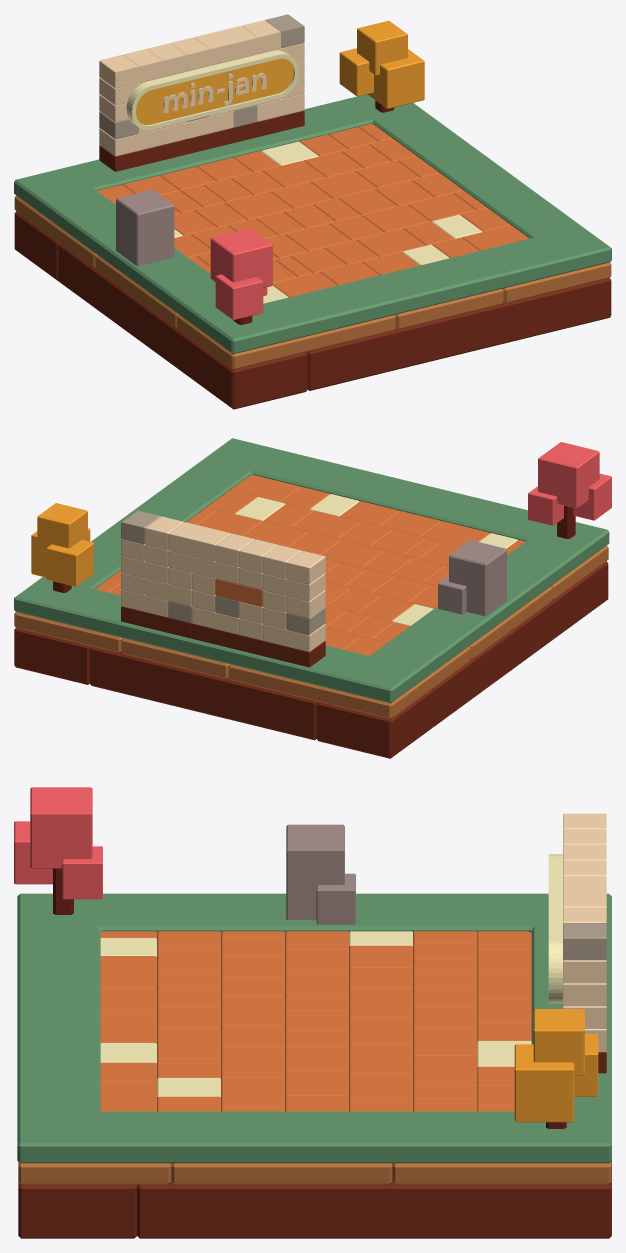
Rendered from stage.glb.
3 views of the same model, one above another, from view 1: azimuth 30°, elevation 25°; view 2: azimuth 150°, elevation 25°; view 3: azimuth 270°, elevation 25° (orthographic). The views are drawn at different scales.
Visible parts, largest first — view 1: 立方体.014, 立方体.001, 立方体.005, 立方体.199, 立方体.157, 立方体.007, 立方体.152, 立方体.155, 立方体.153, 立方体.151, 立方体.004, 立方体 (+63 smaller); view 2: 立方体.014, 立方体.003, 立方体.005, 立方体.004, 立方体.013, 立方体.157, 立方体.152, 立方体.002, 立方体.153, 立方体.154, 立方体.011, 立方体.012 (+56 smaller); view 3: 立方体.014, 立方体.002, 立方体.001, 立方体.010, 立方体.152, 立方体.011, 立方体.157, 立方体.155, 立方体, 立方体.153, 立方体.199, 立方体.079 (+71 smaller).
Boxes of the visible parts, x1,y1,x2,y2 form: 立方体.014: [14, 94, 611, 354]; 立方体.001: [306, 278, 611, 390]; 立方体.005: [58, 243, 307, 409]; 立方体.199: [126, 50, 298, 129]; 立方体.157: [116, 189, 174, 266]; 立方体.007: [177, 315, 395, 369]; 立方体.152: [210, 228, 272, 287]; 立方体.155: [368, 49, 424, 108]; 立方体.153: [357, 20, 407, 75]; 立方体.151: [215, 274, 263, 320]; 立方体.004: [14, 211, 59, 281]; 立方体: [502, 262, 611, 303]; 立方体.014: [14, 438, 609, 703]; 立方体.003: [90, 646, 317, 740]; 立方体.005: [432, 561, 608, 726]; 立方体.004: [316, 689, 433, 758]; 立方体.013: [228, 646, 470, 719]; 立方体.157: [449, 540, 506, 616]; 立方体.152: [538, 442, 599, 508]; 立方体.002: [14, 628, 91, 684]; 立方体.153: [37, 503, 87, 552]; 立方体.154: [46, 539, 93, 586]; 立方体.011: [14, 612, 122, 652]; 立方体.012: [121, 638, 229, 679]; 立方体.014: [17, 893, 611, 1163]; 立方体.002: [137, 1161, 611, 1238]; 立方体.001: [18, 1183, 136, 1238]; 立方体.010: [171, 1163, 392, 1184]; 立方体.152: [30, 787, 92, 868]; 立方体.011: [392, 1161, 611, 1184]; 立方体.157: [286, 824, 344, 919]; 立方体.155: [514, 1044, 574, 1122]; 立方体: [18, 1162, 171, 1184]; 立方体.153: [533, 1009, 584, 1075]; 立方体.199: [548, 854, 562, 1003]; 立方体.079: [157, 1028, 220, 1059].
Bounding box in the file's own units: 10.04 × 4.31 × 10.08.
